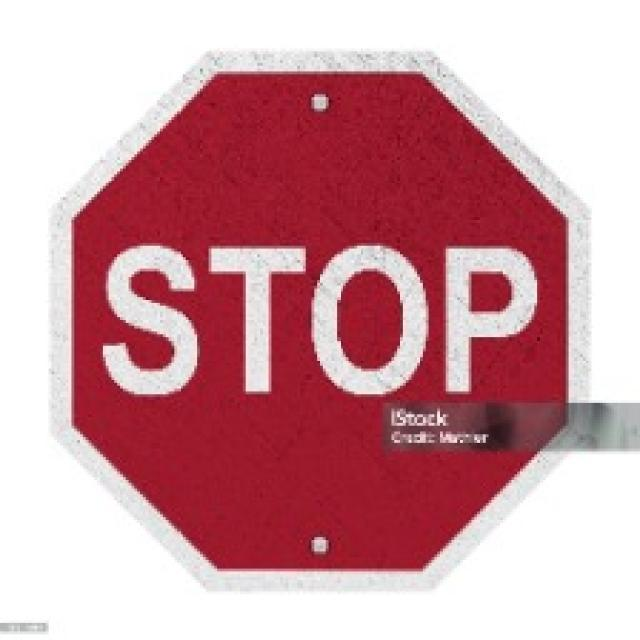stop: (46, 47, 592, 593)
